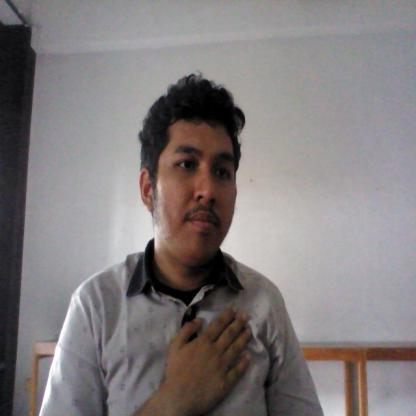Saya: (146, 302, 275, 416)
